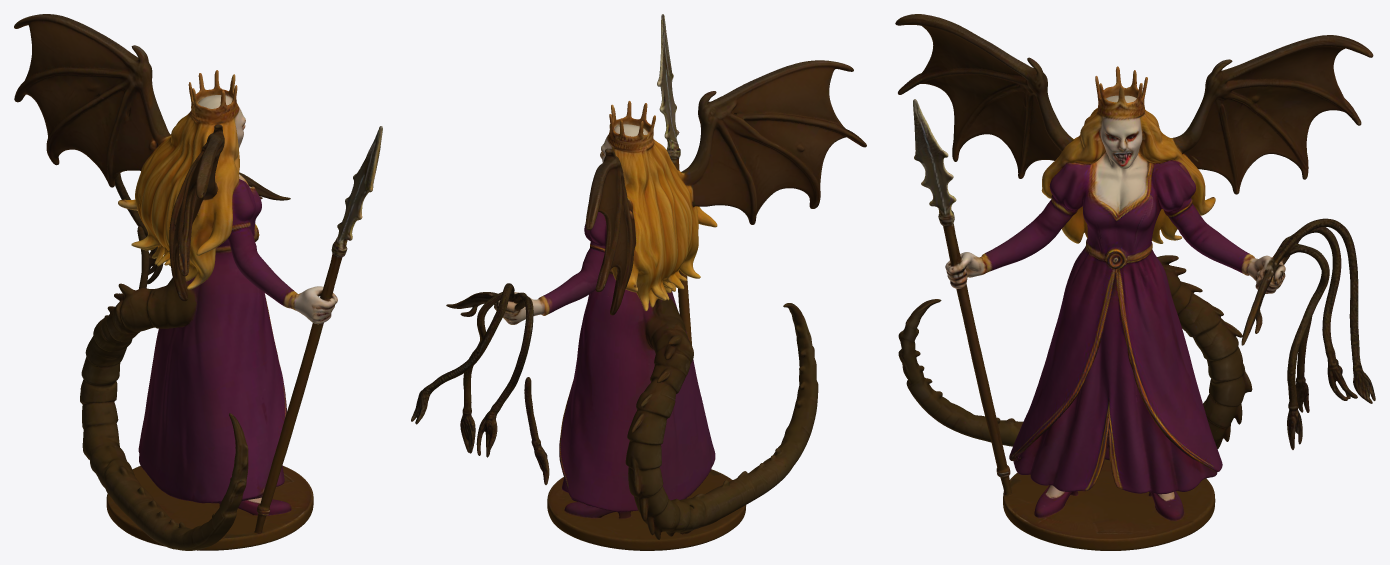
The picture shows the model from 3 angles, left to right: view 1: azimuth 30°, elevation 25°; view 2: azimuth 150°, elevation 25°; view 3: azimuth 270°, elevation 25°; orthographic projection. The views are drawn at different scales.
Parts seen in each view (by area): view 1: tripo_node_551ca421-46bb-49fb-a5ba-3c5cf029d89c; view 2: tripo_node_551ca421-46bb-49fb-a5ba-3c5cf029d89c; view 3: tripo_node_551ca421-46bb-49fb-a5ba-3c5cf029d89c.
Boxes of the visible parts, x1=… form: tripo_node_551ca421-46bb-49fb-a5ba-3c5cf029d89c: x1=14, y1=14, x2=382, y2=550; tripo_node_551ca421-46bb-49fb-a5ba-3c5cf029d89c: x1=411, y1=14, x2=866, y2=550; tripo_node_551ca421-46bb-49fb-a5ba-3c5cf029d89c: x1=895, y1=14, x2=1375, y2=550.
Bounding box in the file's own units: 0.6657 × 1 × 0.9755.
Materials: 1 (1 with a texture image).
